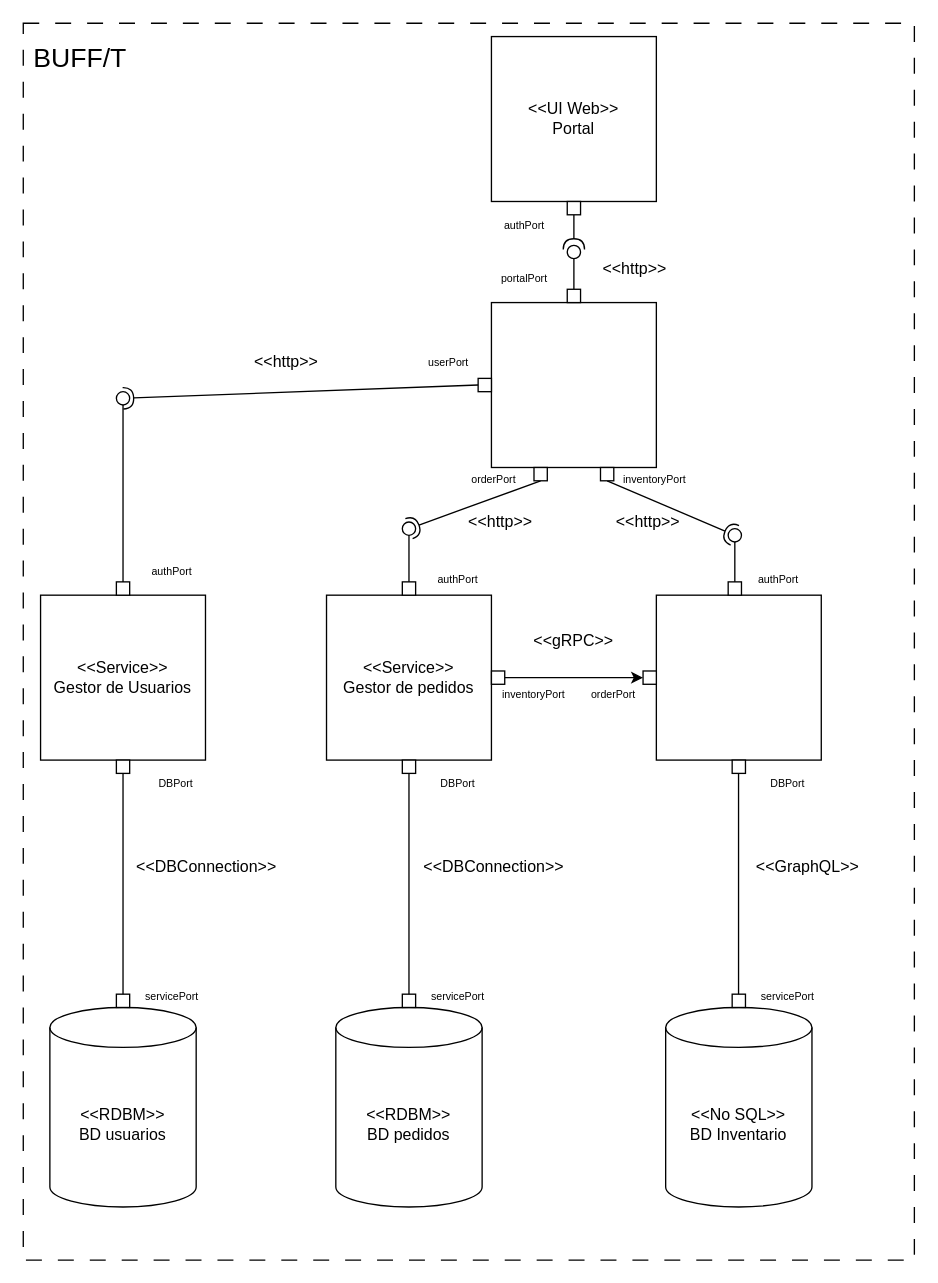
This 938x1283 diagram has some shape labels left out. Each missing label, with the box of its shape:
<<Service>> AuthService: (490, 301, 656, 467)
<<Service>> Gestor de inventario: (655, 594, 821, 760)
